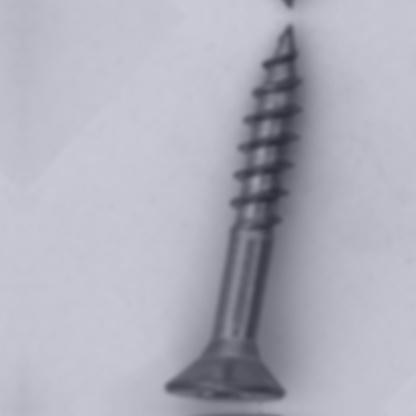metal: (162, 22, 302, 404)
